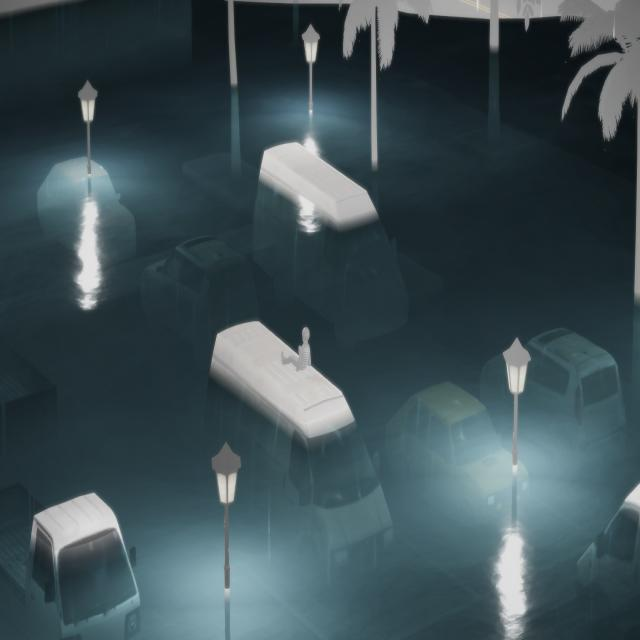Human: (279, 321, 318, 380)
